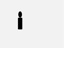human: (14, 8, 25, 31)
